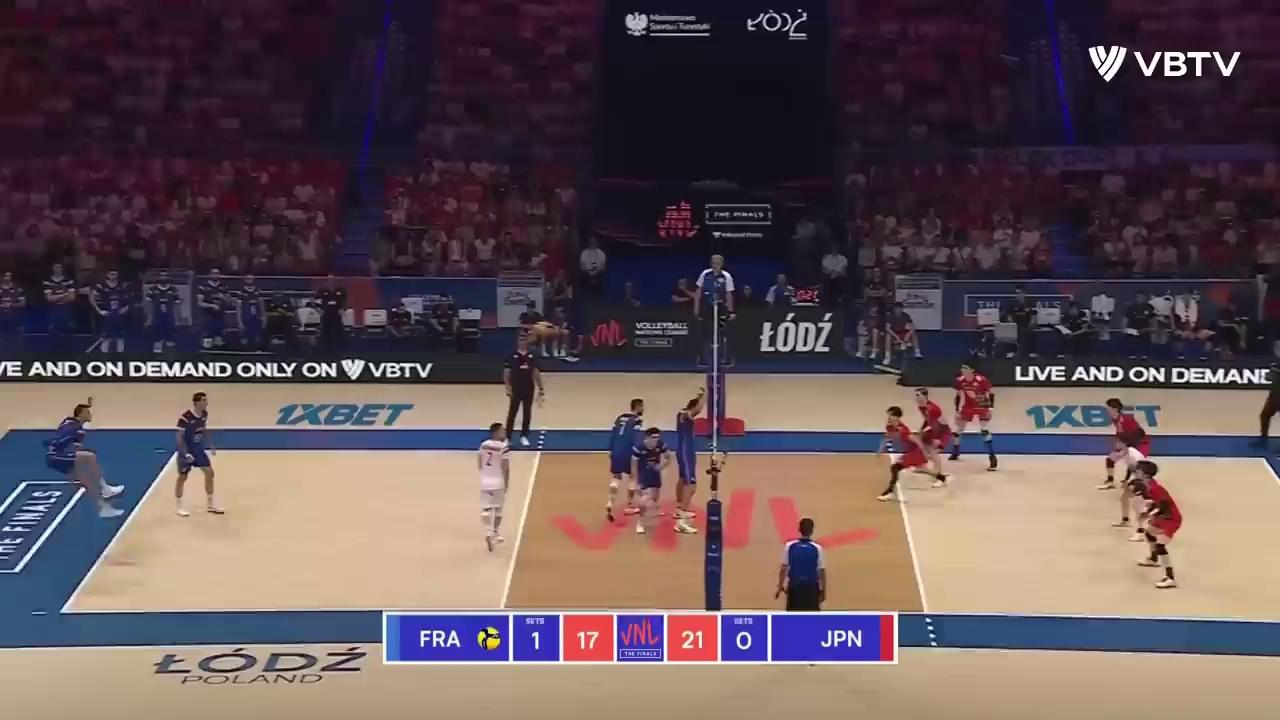ball: (532, 322, 554, 337)
